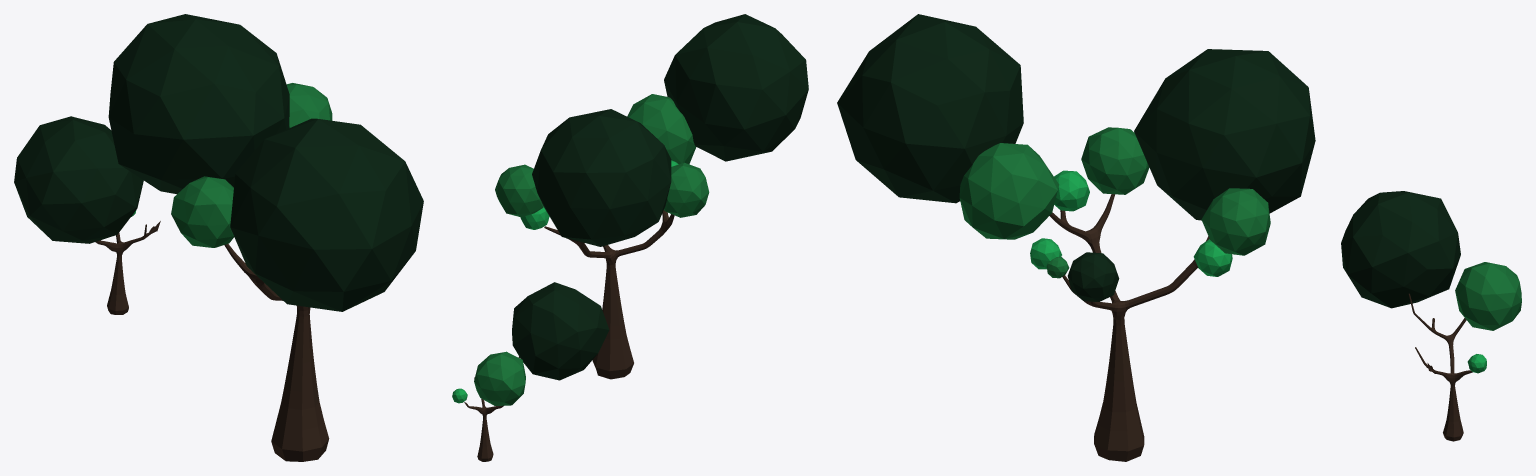
Rendered from tree.fbx.
3 renders of one model, left to right at view 1: azimuth 30°, elevation 25°; view 2: azimuth 150°, elevation 25°; view 3: azimuth 270°, elevation 25°, orthographic. The views are drawn at different scales.
Parts seen in each view (by area): view 1: Icosphere.002, Icosphere.012, Icosphere.001, Plane, Icosphere.007, Icosphere.014, Plane.001; view 2: Icosphere.002, Icosphere.012, Icosphere.001, Plane, Icosphere.015, Icosphere.008, Icosphere.007, Icosphere.014, Plane.001, Icosphere.013; view 3: Icosphere.002, Icosphere.012, Icosphere.001, Icosphere.015, Plane, Icosphere.008, Icosphere.014, Icosphere.007, Icosphere.003, Plane.001, Icosphere.006, Icosphere.013 (+1 smaller).
Boxes of the visible parts, bbox=[...] form: Icosphere.002: bbox=[230, 118, 423, 311]; Icosphere.012: bbox=[108, 14, 289, 194]; Icosphere.001: bbox=[14, 116, 143, 243]; Plane: bbox=[224, 244, 329, 461]; Icosphere.007: bbox=[171, 176, 233, 247]; Icosphere.014: bbox=[286, 83, 332, 127]; Plane.001: bbox=[95, 221, 160, 314]; Icosphere.002: bbox=[664, 14, 808, 161]; Icosphere.012: bbox=[532, 109, 671, 246]; Icosphere.001: bbox=[512, 282, 609, 380]; Plane: bbox=[544, 210, 674, 379]; Icosphere.015: bbox=[627, 94, 696, 164]; Icosphere.008: bbox=[474, 351, 525, 405]; Icosphere.007: bbox=[664, 162, 709, 217]; Icosphere.014: bbox=[495, 164, 543, 217]; Plane.001: bbox=[464, 356, 519, 461]; Icosphere.013: bbox=[520, 207, 549, 229]; Icosphere.002: bbox=[837, 14, 1023, 203]; Icosphere.012: bbox=[1134, 49, 1315, 220]; Icosphere.001: bbox=[1341, 191, 1460, 308]; Icosphere.015: bbox=[959, 143, 1059, 239]; Plane: bbox=[1049, 194, 1209, 461]; Icosphere.008: bbox=[1455, 262, 1521, 330]; Icosphere.014: bbox=[1201, 188, 1270, 255]; Icosphere.007: bbox=[1081, 127, 1149, 194]; Icosphere.003: bbox=[1067, 252, 1119, 301]; Plane.001: bbox=[1408, 293, 1472, 441]; Icosphere.006: bbox=[1054, 170, 1089, 211]; Icosphere.013: bbox=[1193, 239, 1232, 276].
Bounding box in the file's own units: 1658 × 2654 × 4101.
